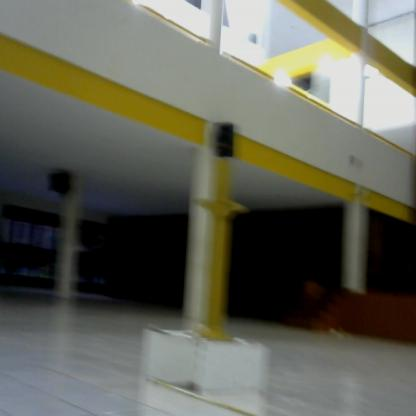pole: (192, 167, 250, 350)
